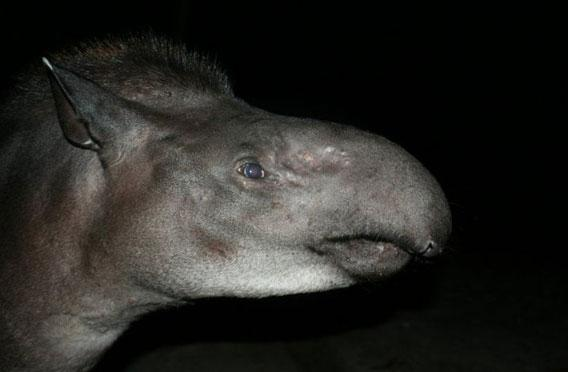Anta: (14, 30, 453, 336)
